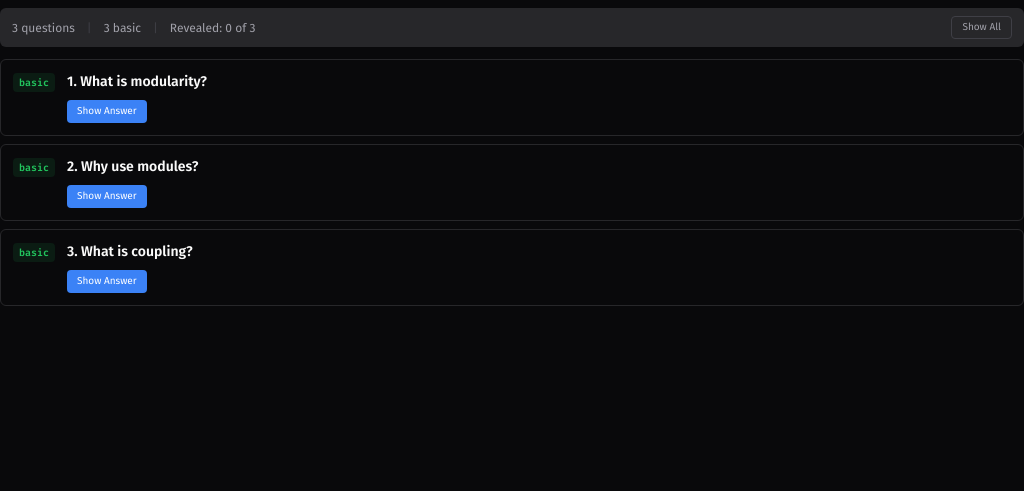
Test case: ComprehensionCheck › Show All reveals all answers
Step 1. Click the button "Show All" → (982, 28), box [951,16,1012,39]
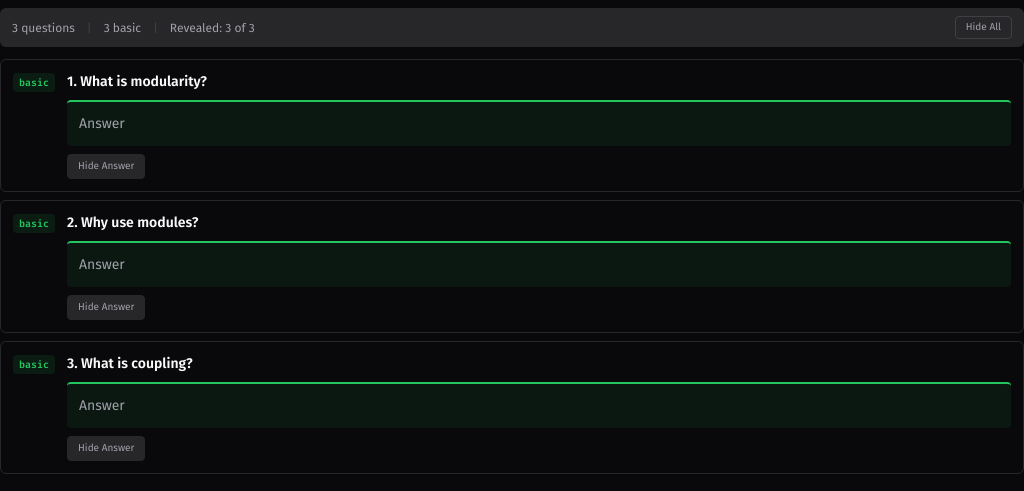
Now the text "Answer" is shown 3 times, box [79,115,125,132]; [79,256,125,273]; [79,397,125,414]
